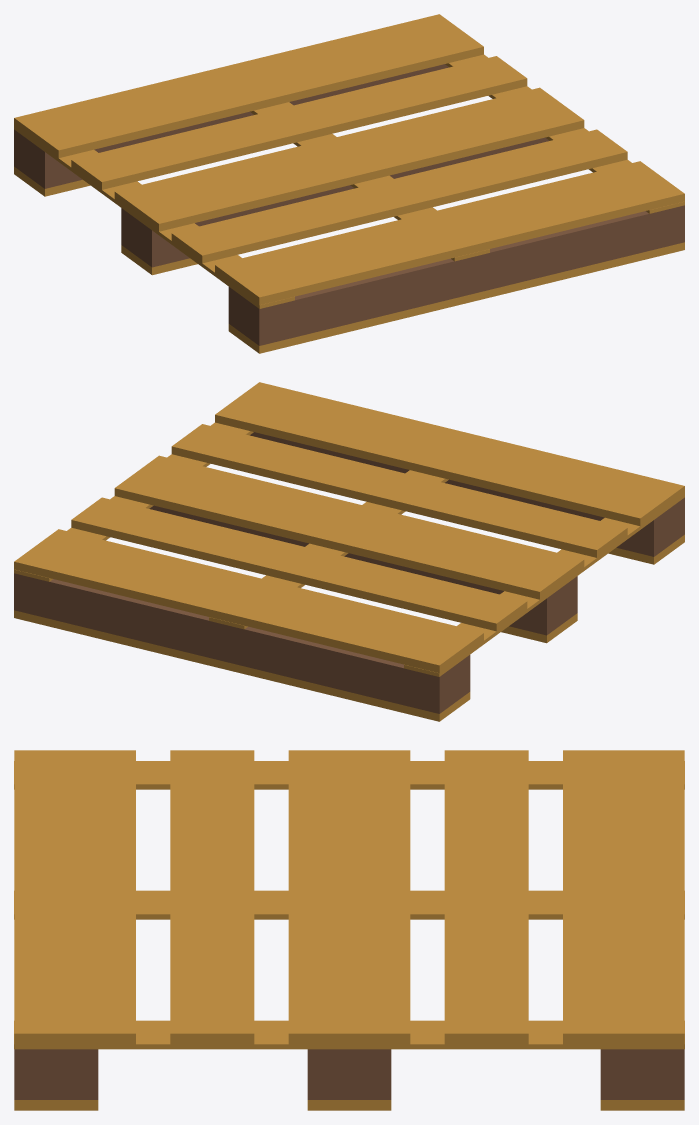
Rendered from Palet.fbx.
3 views of the same model, one above another, from view 1: azimuth 30°, elevation 25°; view 2: azimuth 150°, elevation 25°; view 3: azimuth 270°, elevation 25° (orthographic). The views are drawn at different scales.
Parts seen in each view (by area): view 1: Cube.016; view 2: Cube.016; view 3: Cube.016.
Boxes of the visible parts, x1,y1,x2,y2 form: Cube.016: (14,14,684,353); Cube.016: (14,382,684,721); Cube.016: (14,750,684,1110).
Bounding box in the file's own units: 24 × 24 × 3.04.
